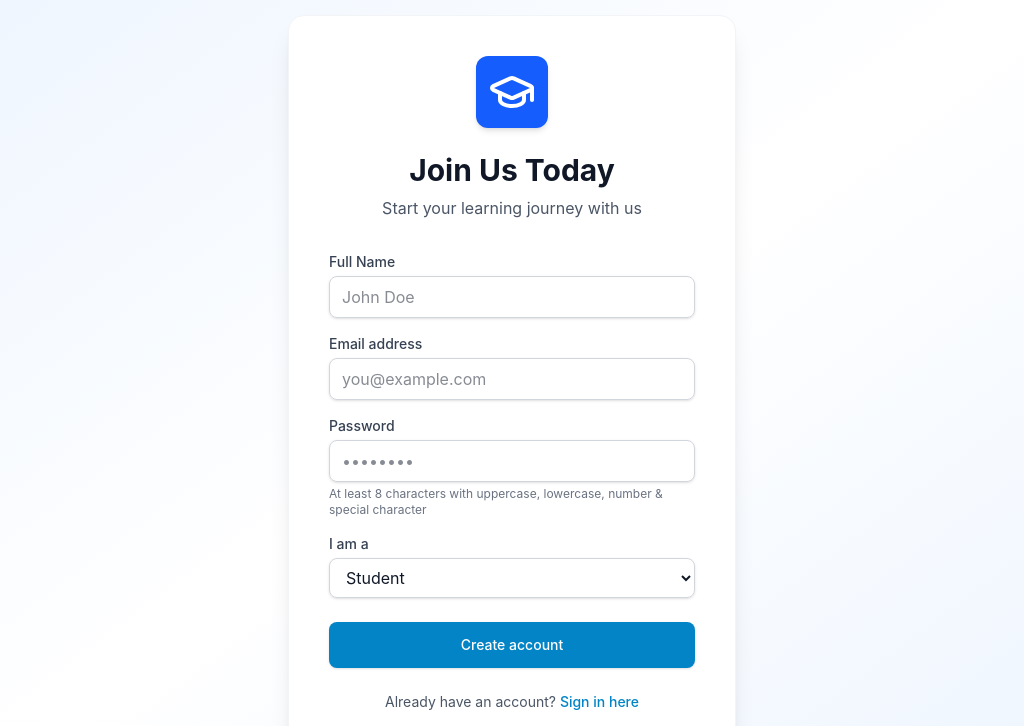
it: Register page › registers mentor and shows pending message
Type "Mentor User" into the field labelled "Full Name" at (512, 297), box [329, 276, 695, 318]
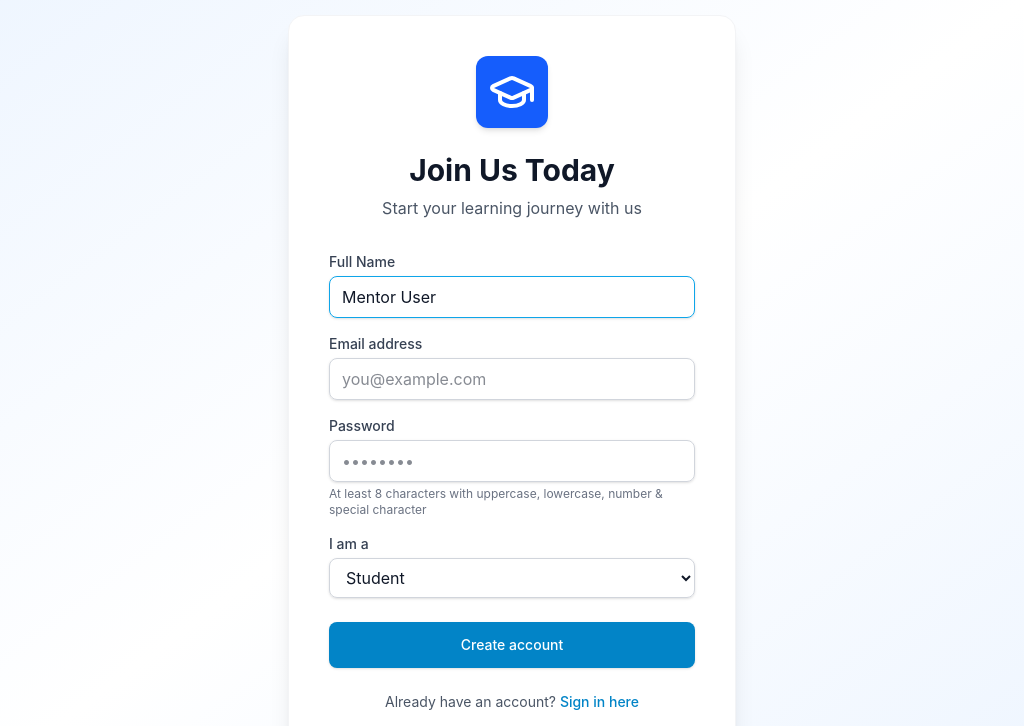
Type "mentor@test.com" into the field labelled "Email address" at (512, 379), box [329, 358, 695, 400]
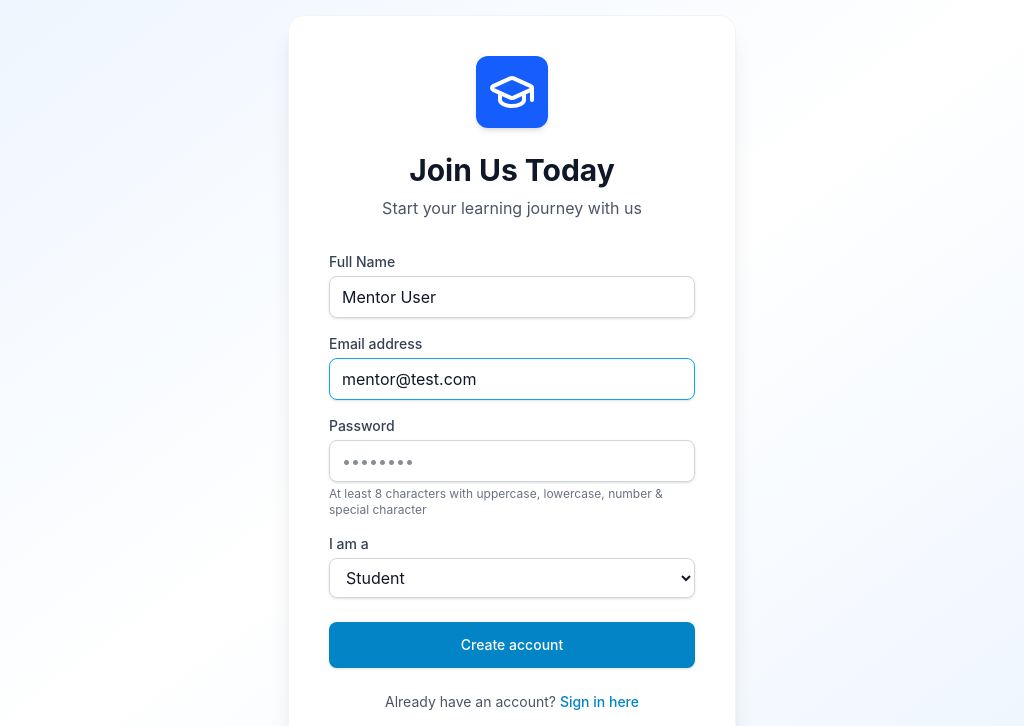
Type "password123" into the password field labelled "Password" at (512, 461), box [329, 440, 695, 482]
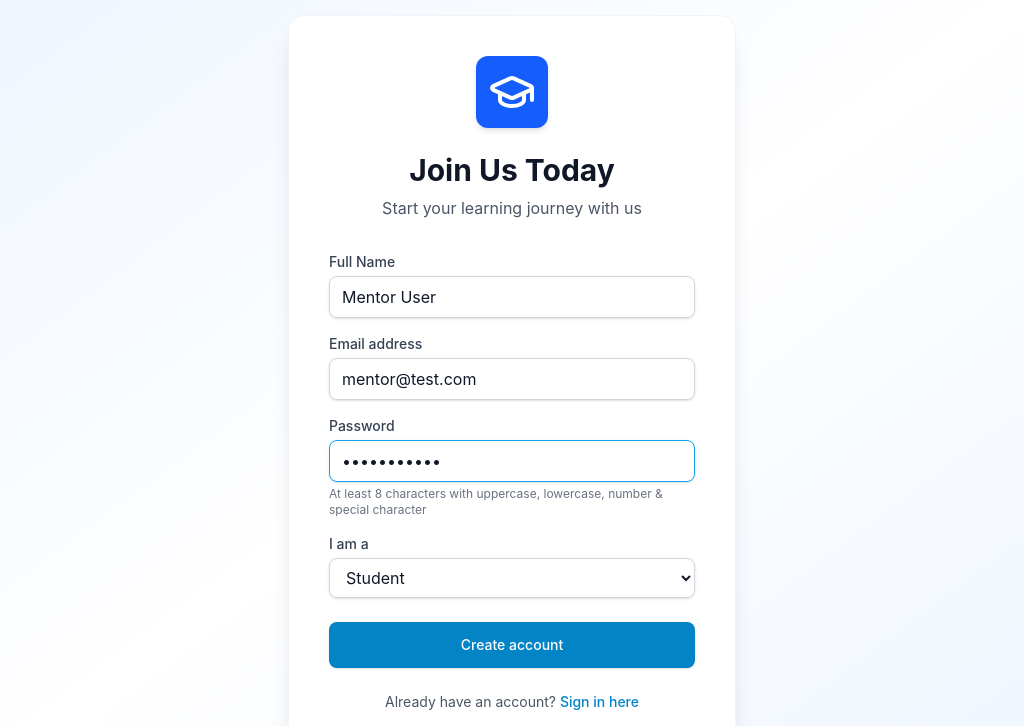
Select "Mentor" in the dropdown labelled "I am a" at (512, 578), box [329, 558, 695, 598]
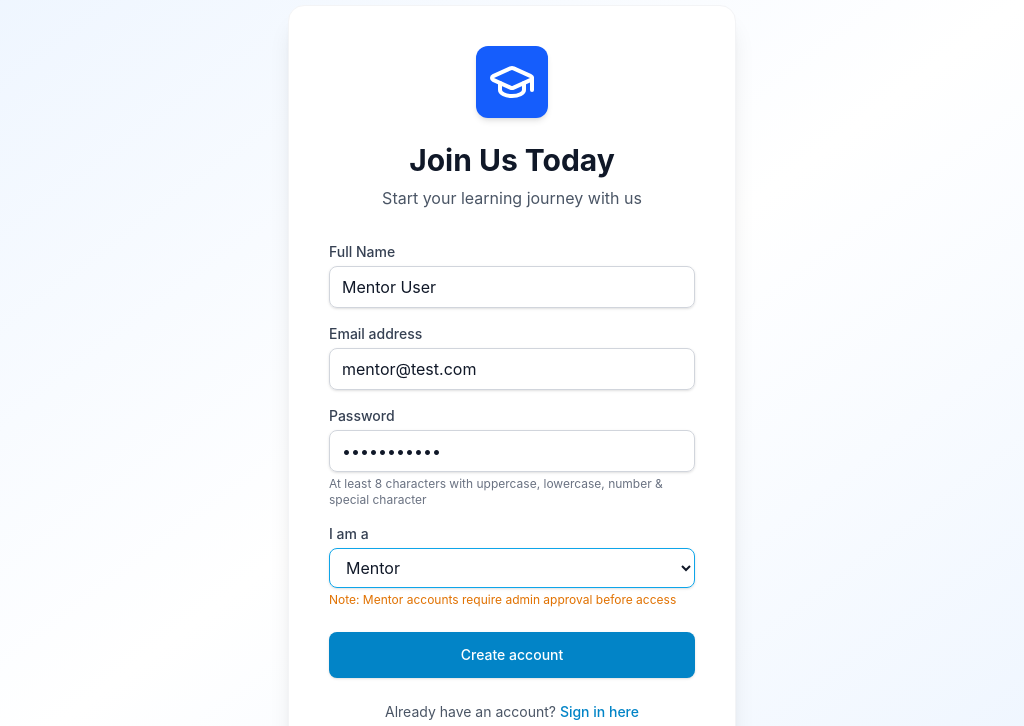
Click the button "Create account" at (512, 655), box [329, 632, 695, 678]
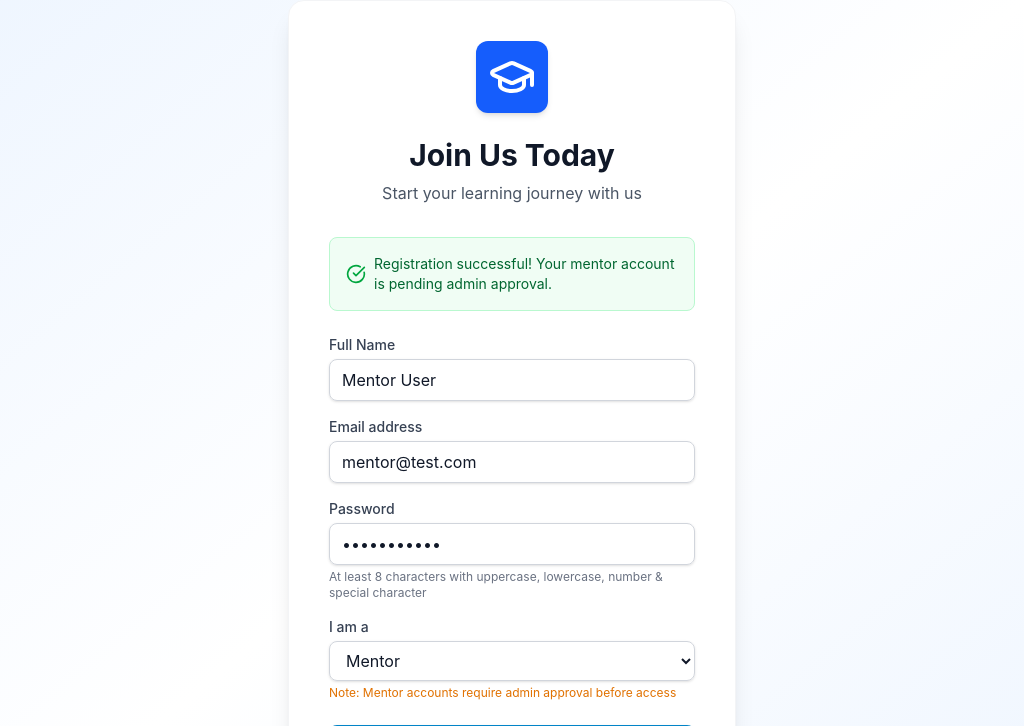
Expected: the text "pending admin approval" is shown, [374, 255, 674, 292]
